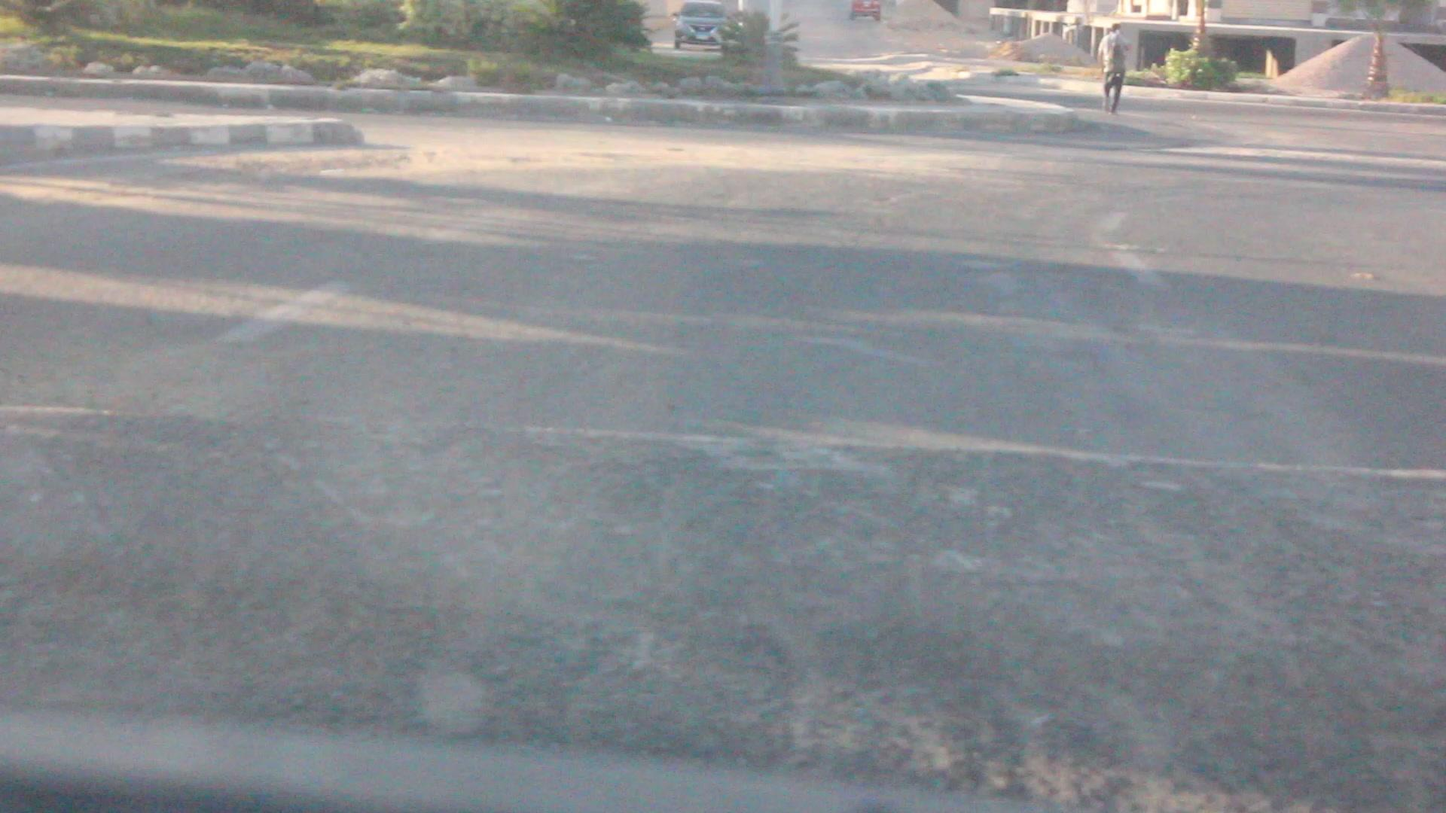Bump: (1, 402, 1445, 812)
